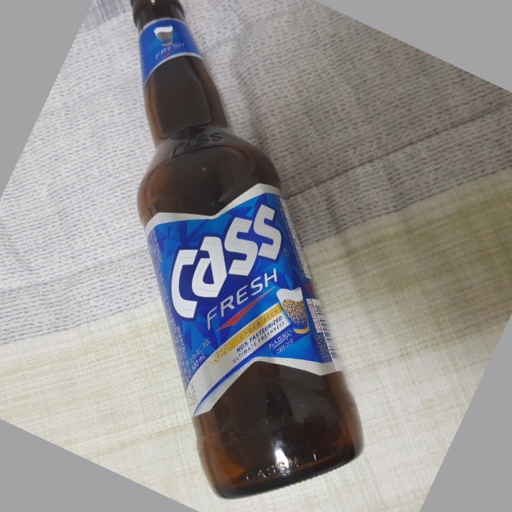Glass_1: (124, 2, 363, 498)
